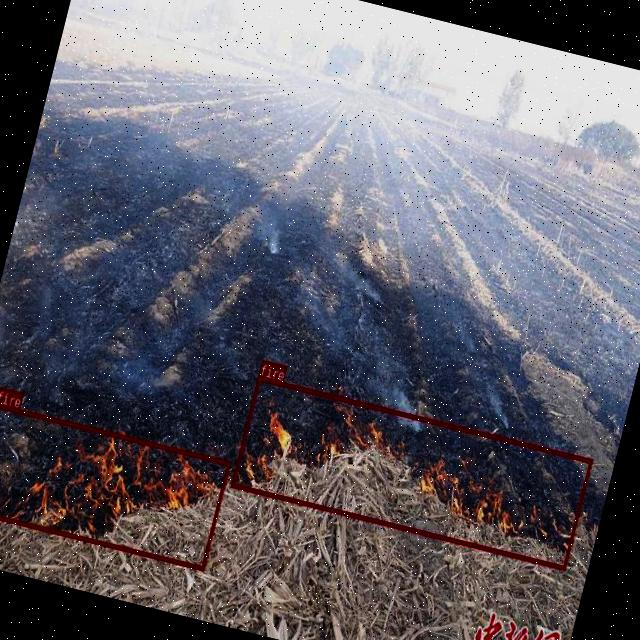fire: (230, 374, 592, 570), (0, 402, 230, 570)
